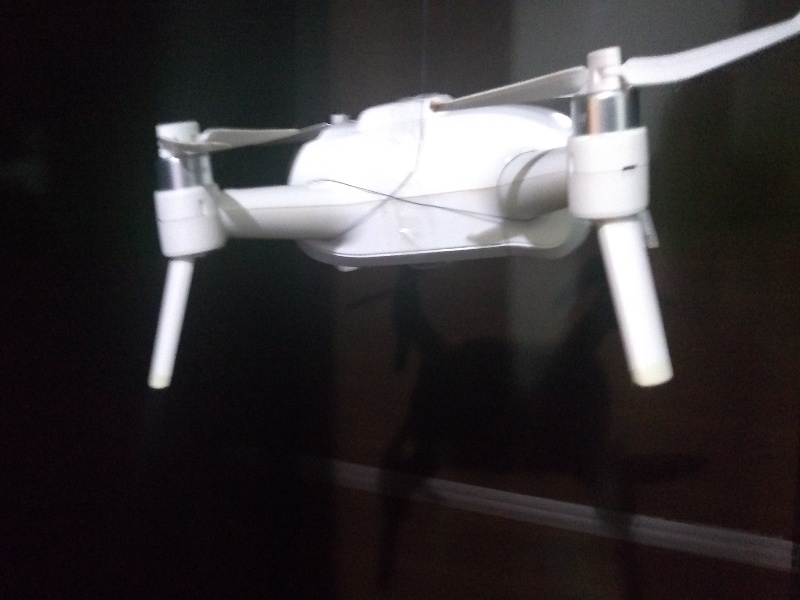drone: (117, 13, 745, 396)
